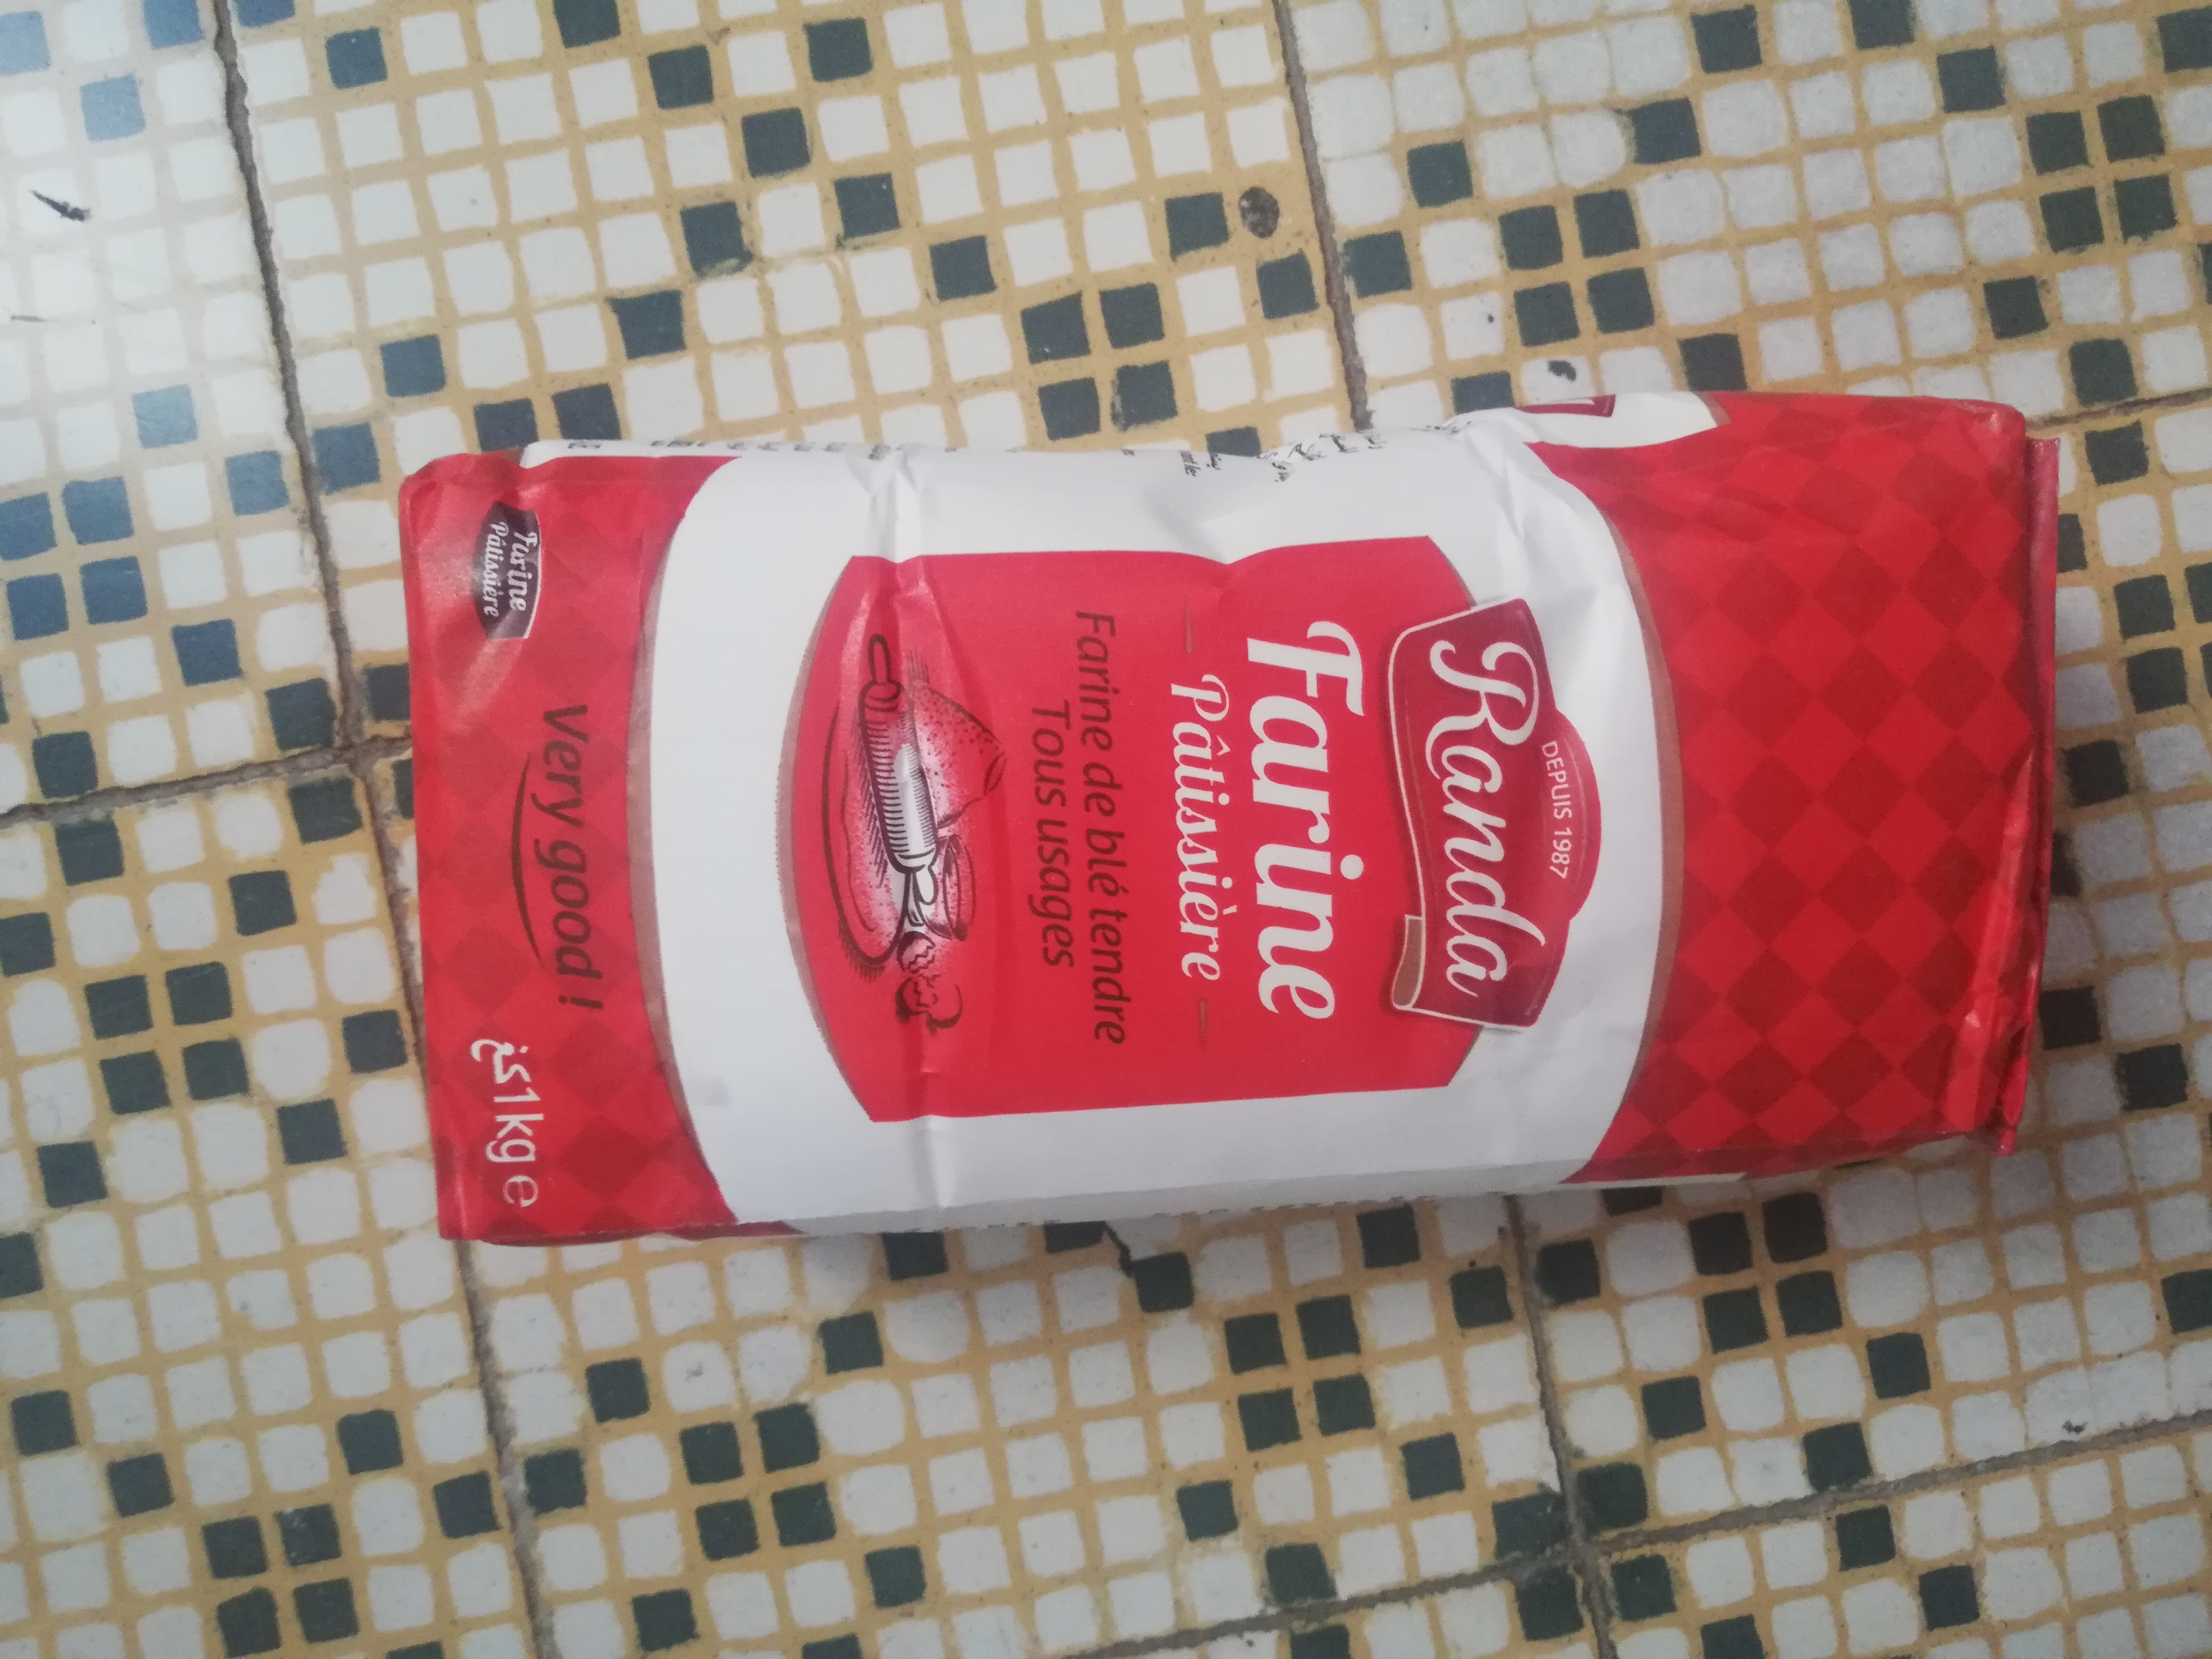Farine Randa: (399, 387, 2064, 1239)
